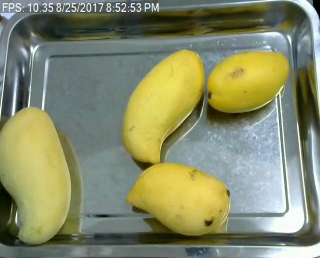Mango: (0, 105, 75, 245), (120, 49, 204, 163), (127, 160, 235, 242), (204, 46, 295, 117)
